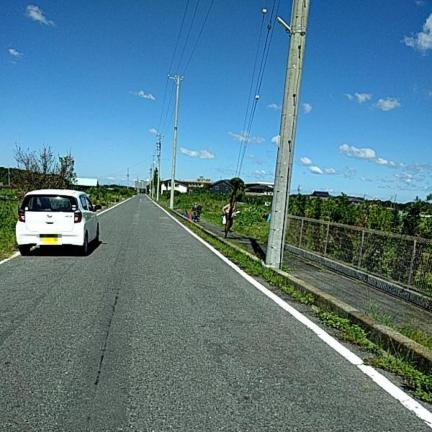Road: (0, 197, 430, 431)
